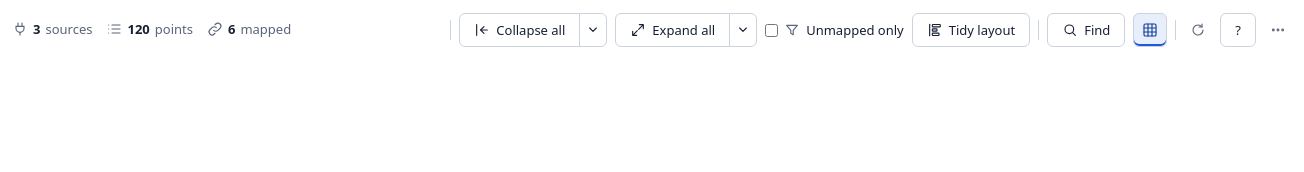
Scenario: GraphBar › the overflow menu › holds Clear unmapped (N) for the role that has it, and only that while every control is drawn in the bar
Click the button named "More Discovery actions": [1278, 30] box x1=1264 y1=16 x2=1292 y2=44
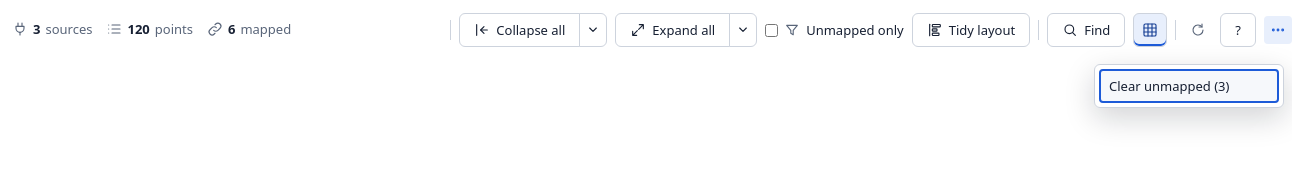
Expected: the menu named "Discovery actions" is shown, x1=1094 y1=64 x2=1284 y2=108
Expected: the menu items read "Clear unmapped (3)", in this order, x1=1099 y1=69 x2=1279 y2=103
